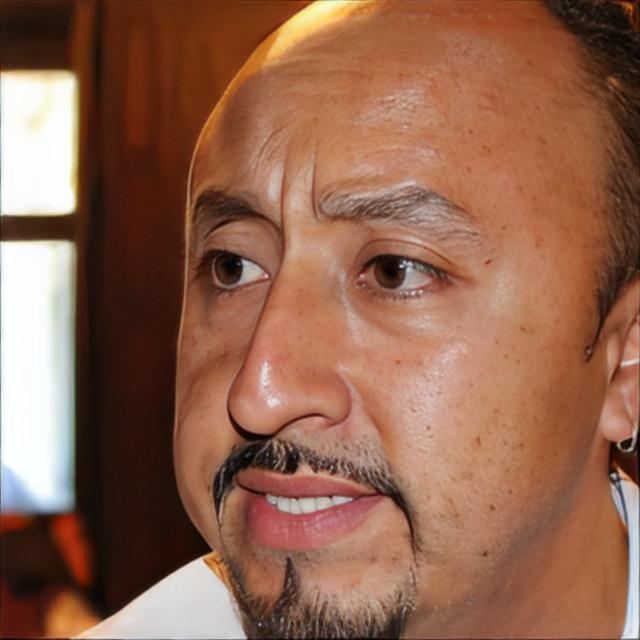anger: (162, 101, 596, 640)
